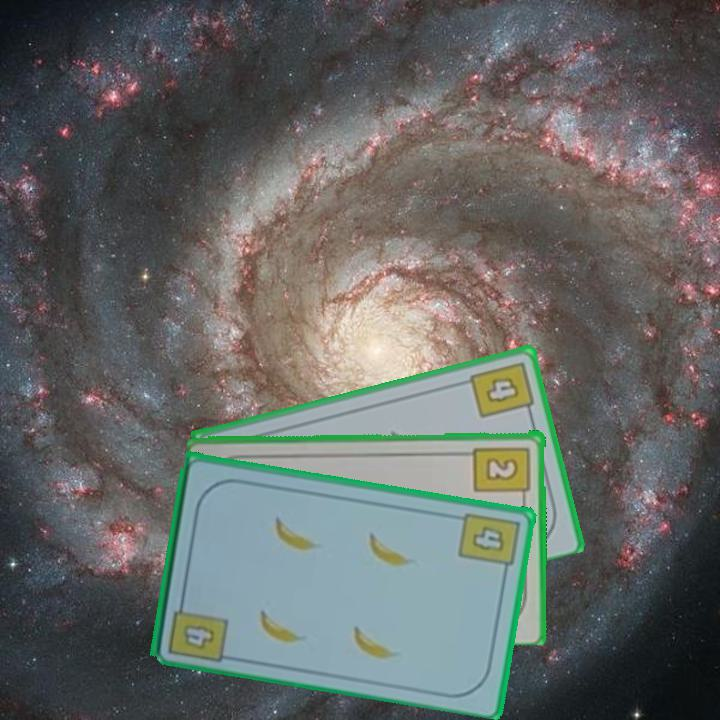2b: (471, 443, 533, 504)
4b: (455, 508, 522, 578), (165, 592, 230, 664), (466, 357, 536, 421)
